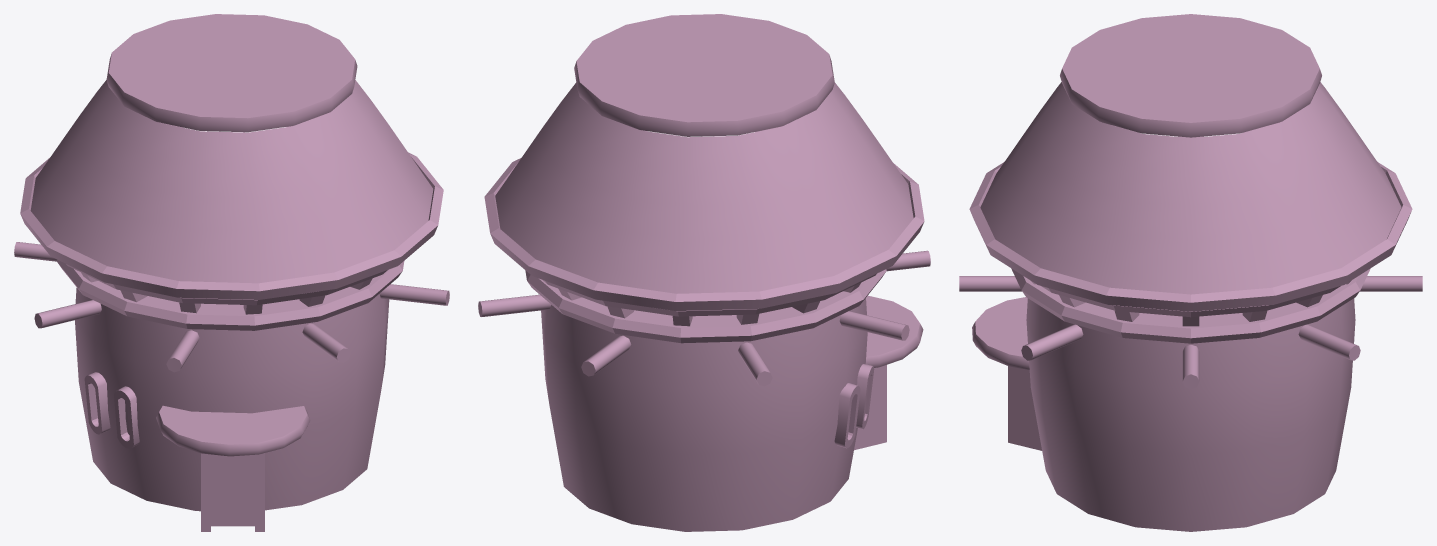
Rendered from MESH_RoundHouse04.fbx.
The picture shows the model from 3 angles, left to right: view 1: azimuth 30°, elevation 25°; view 2: azimuth 150°, elevation 25°; view 3: azimuth 270°, elevation 25°; orthographic projection. The views are drawn at different scales.
Parts seen in each view (by area): view 1: MESH_RoundHouse4; view 2: MESH_RoundHouse4; view 3: MESH_RoundHouse4.
Boxes of the visible parts, bbox=[...] form: MESH_RoundHouse4: bbox=[14, 14, 449, 531]; MESH_RoundHouse4: bbox=[478, 14, 930, 531]; MESH_RoundHouse4: bbox=[959, 14, 1422, 531].
Bounding box in the file's own units: 7.71 × 7.71 × 7.39.
